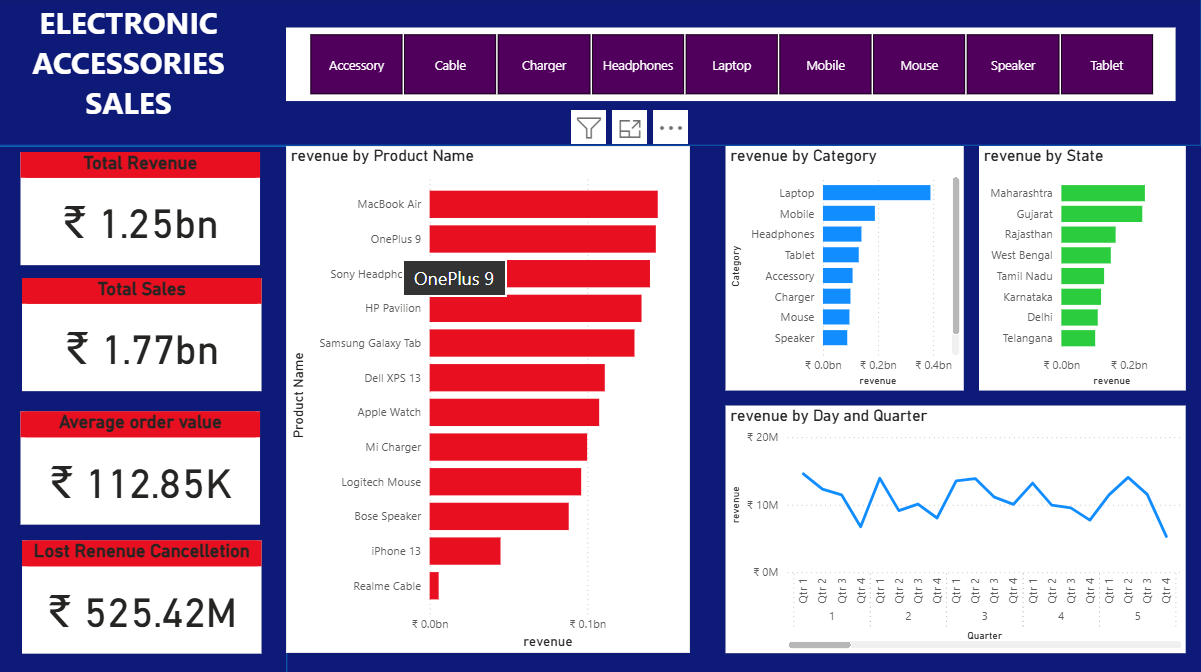

The page's visual inventory and layout, read from the dashboard file:
{"tool":"powerbi","page":{"name":"Page 1","canvas":[1280,720],"ordinal":0},"visuals":[{"type":"shape","box":[0,0,1279.4,158.7],"z":0},{"type":"shape","box":[0,158.7,309.9,561.3],"z":1000},{"type":"barChart","fields":{"Y":["Table.revenue"],"Category":["Products.Product Name"]},"box":[308.6,159.1,427.9,537.6],"z":2000},{"type":"barChart","fields":{"Y":["Table.revenue"],"Category":["Products.Category"]},"box":[774.6,159.1,252.9,259.3],"z":3000},{"type":"lineChart","fields":{"Y":["Table.revenue"],"Category":["Orders.Date and time of purchase.Variation.Date Hierarchy.Day","Orders.Date and time of purchase.Variation.Date Hierarchy.Quarter","Orders.Date and time of purchase.Variation.Date Hierarchy.Month","Orders.Date and time of purchase.Variation.Date Hierarchy.Year"]},"box":[774.6,434.2,488.3,262.5],"z":4000},{"type":"barChart","fields":{"Y":["Table.revenue"],"Category":["Customers.State"]},"box":[1043.4,165.4,219.5,252.9],"z":5000},{"type":"slicer","fields":{"Values":["Products.Category"]},"box":[309.3,34,942.4,90.7],"z":6000},{"type":"card","title":"Total Revenue","fields":{"Values":["Table.revenue"]},"box":[27.5,165.2,254.2,119.8],"z":7000},{"type":"card","title":"Average order value","fields":{"Values":["Table.AOV"]},"box":[27.5,440.4,254.2,119.8],"z":7001},{"type":"card","title":"Lost Renenue Cancelletion","fields":{"Values":["Table.lost_rev_cancellation"]},"box":[29.1,578.1,254.2,119.8],"z":7002},{"type":"card","title":"Total Sales","fields":{"Values":["Table.sales"]},"box":[29.1,299.6,254.2,119.8],"z":7003}]}

Visuals, with their boxes in screenshot pixels (x1, y1, x2, y2), scaled from the page's 1280x720 canvas onto the 1201x672 screenshot:
shape: Rect(0, 0, 1200, 148)
shape: Rect(0, 148, 291, 671)
barChart - Table.revenue x Products.Product Name: Rect(290, 148, 691, 650)
barChart - Table.revenue x Products.Category: Rect(727, 148, 964, 391)
lineChart - Table.revenue x Orders.Date and time of purchase.Variation.Date Hierarchy.Day: Rect(727, 405, 1185, 650)
barChart - Table.revenue x Customers.State: Rect(979, 154, 1185, 390)
slicer - Products.Category: Rect(290, 32, 1174, 116)
"Total Revenue" card: Rect(26, 154, 264, 266)
"Average order value" card: Rect(26, 411, 264, 523)
"Lost Renenue Cancelletion" card: Rect(27, 540, 266, 651)
"Total Sales" card: Rect(27, 280, 266, 391)
